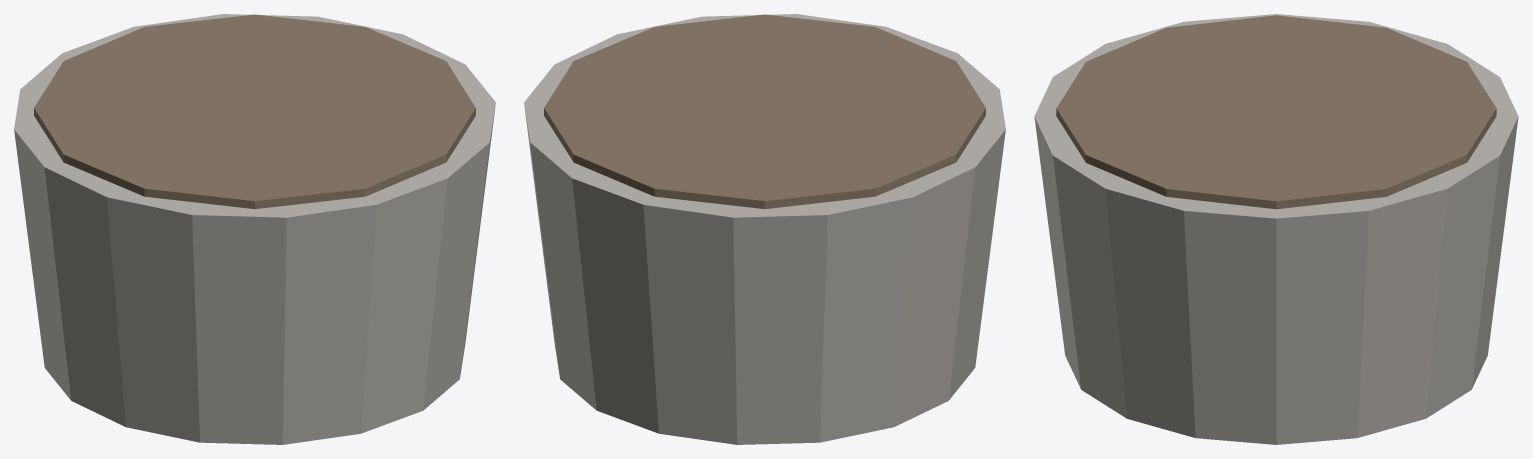
File: flower_pot.glb
3 views of the same model, side by side, from view 1: azimuth 30°, elevation 25°; view 2: azimuth 150°, elevation 25°; view 3: azimuth 270°, elevation 25° (orthographic).
Visible parts, largest first — view 1: flower_pot; view 2: flower_pot; view 3: flower_pot.
Boxes of the visible parts, <box> form: flower_pot: <box>14,14,495,444</box>; flower_pot: <box>524,14,1005,444</box>; flower_pot: <box>1034,14,1518,444</box>.
Bounding box in the file's own units: 1.1 × 0.62 × 1.1.
